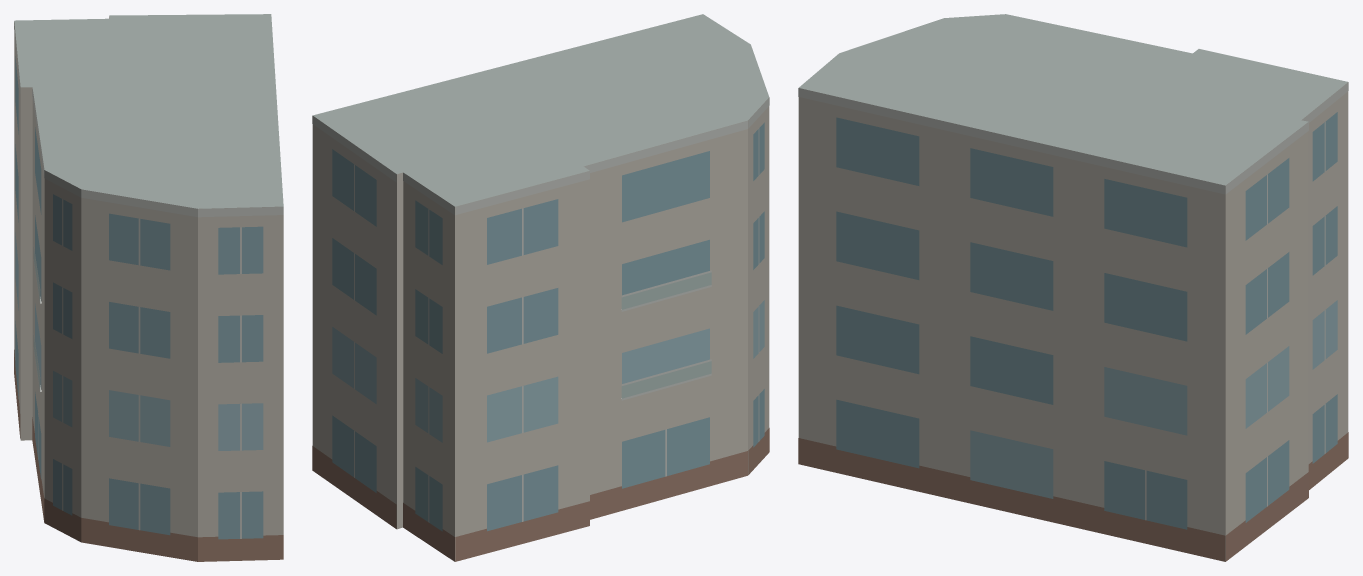
File: survey-upis-32986886.glb
3 renders of one model, left to right at view 1: azimuth 30°, elevation 25°; view 2: azimuth 150°, elevation 25°; view 3: azimuth 270°, elevation 25°, orthographic. The views are drawn at different scales.
Parts seen in each view (by area): view 1: survey-upis-32986886.tmp; view 2: survey-upis-32986886.tmp; view 3: survey-upis-32986886.tmp.
Boxes of the visible parts, x1,y1,x2,y2 form: survey-upis-32986886.tmp: [14, 14, 283, 561]; survey-upis-32986886.tmp: [312, 14, 769, 561]; survey-upis-32986886.tmp: [798, 14, 1348, 561].
Size of the model in its own units: 9.98 by 10.2 by 13.52.
